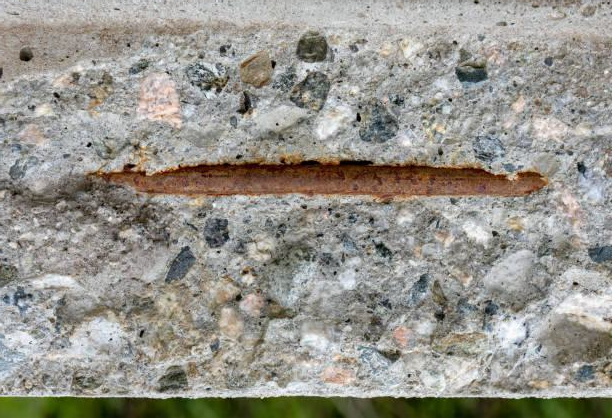Exposed reinforcement: (86, 160, 546, 197)
Spalling: (1, 1, 612, 397)
